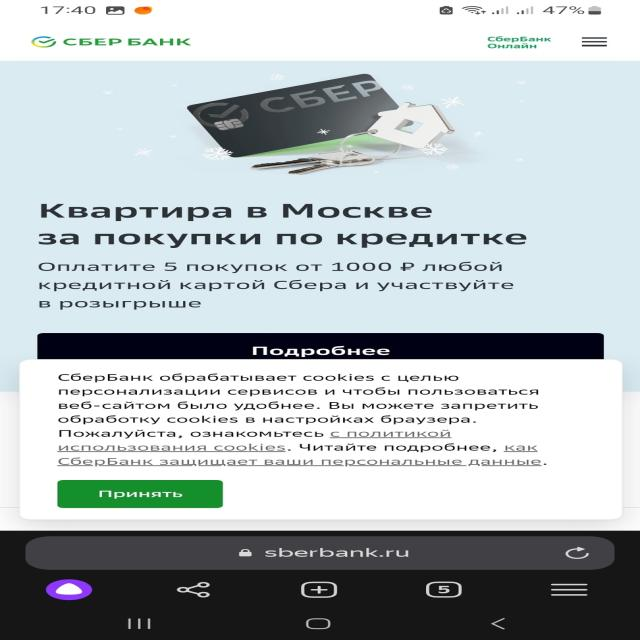button: (57, 480, 222, 509)
site: (19, 360, 626, 520)
